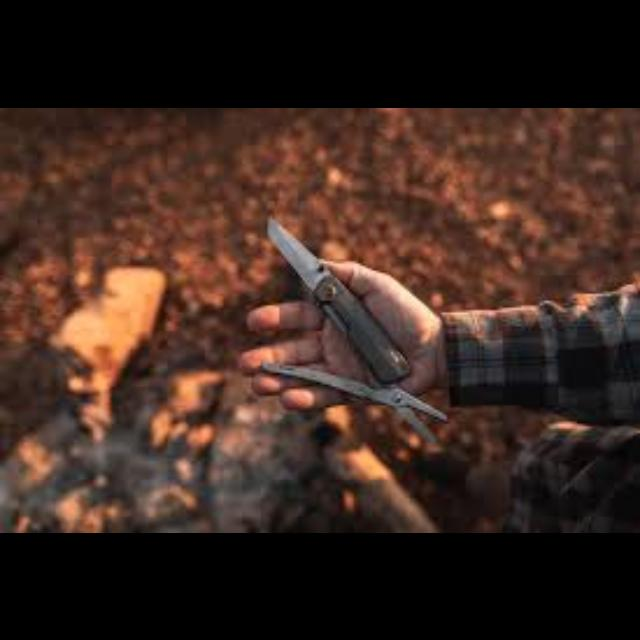knife: (250, 184, 640, 443), (265, 215, 409, 382)
